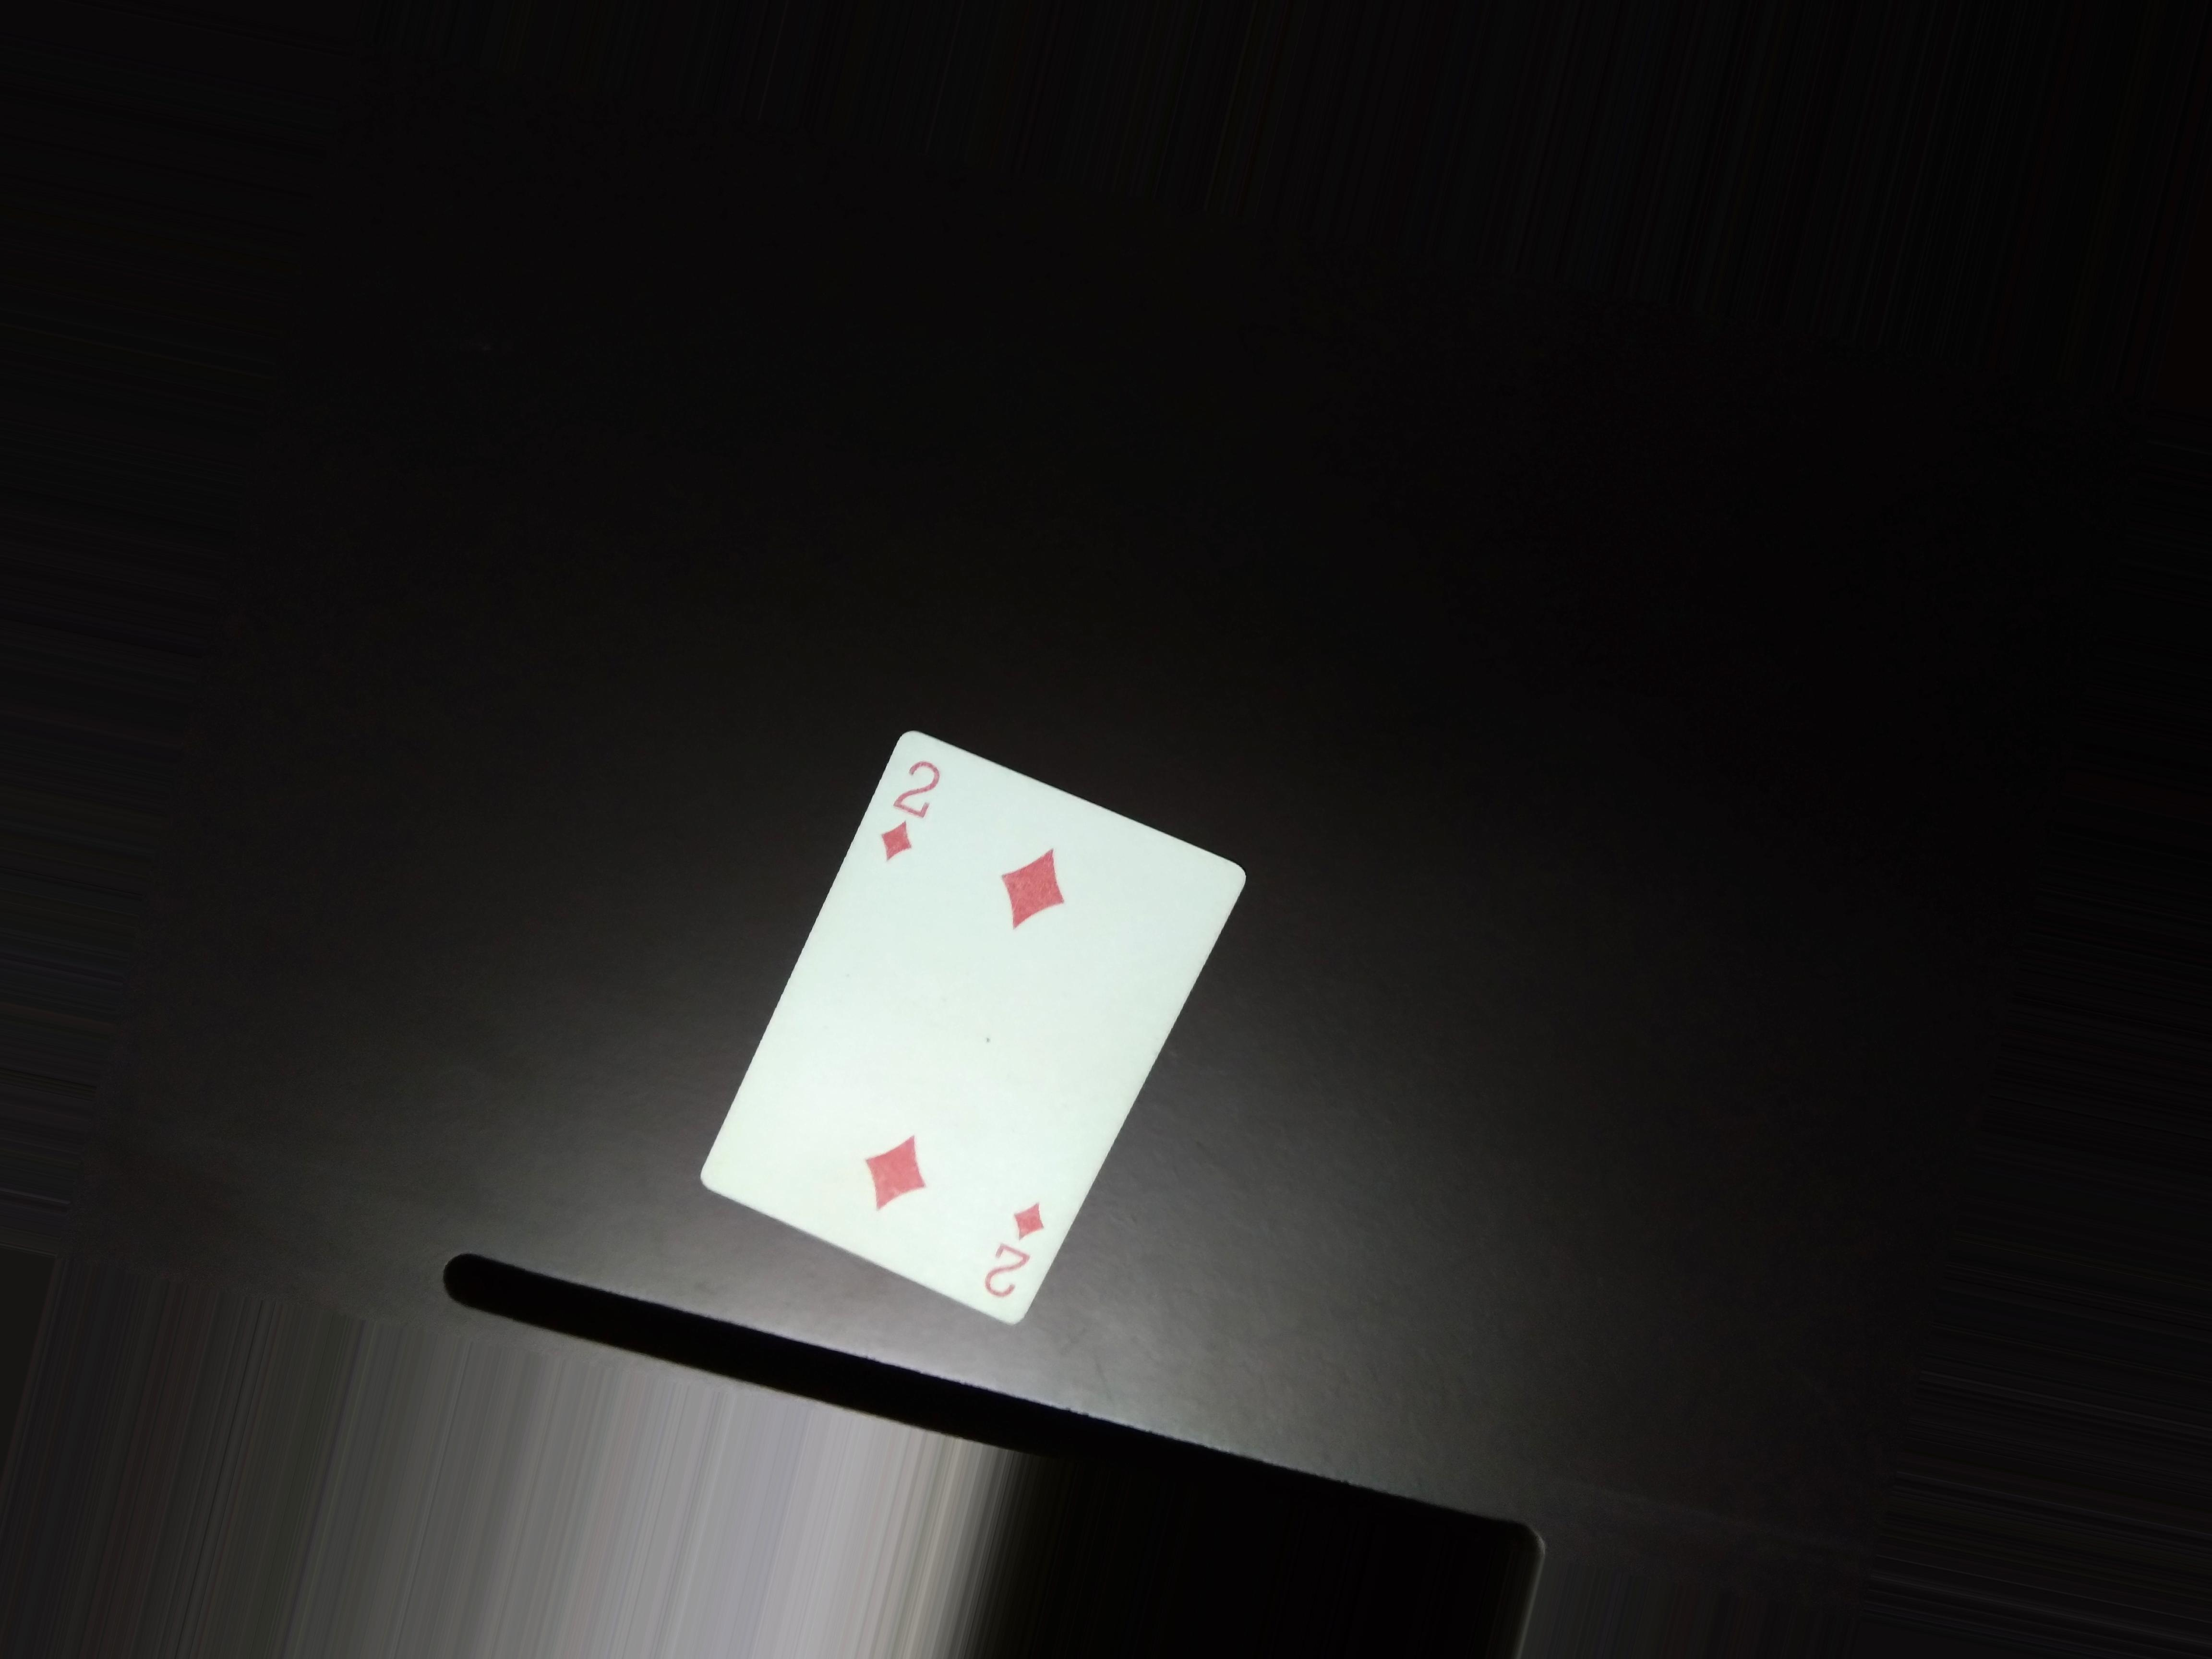2D: (892, 749, 958, 875)
